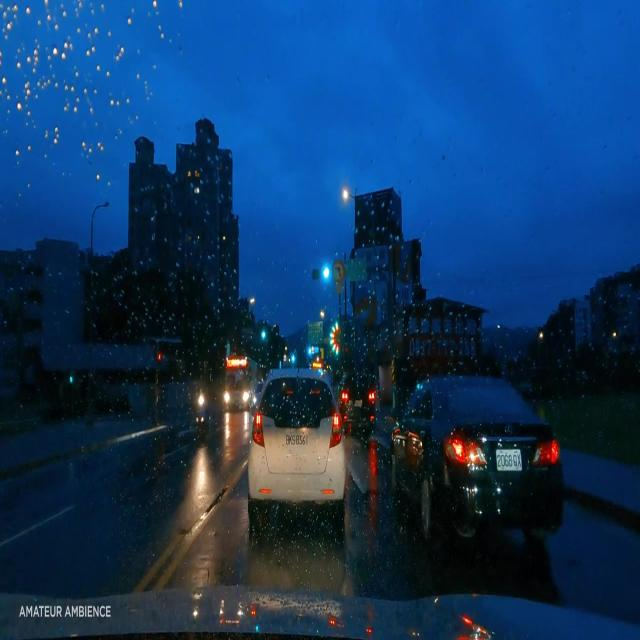Car: (395, 371, 558, 541), (249, 368, 344, 521), (339, 373, 375, 431)
